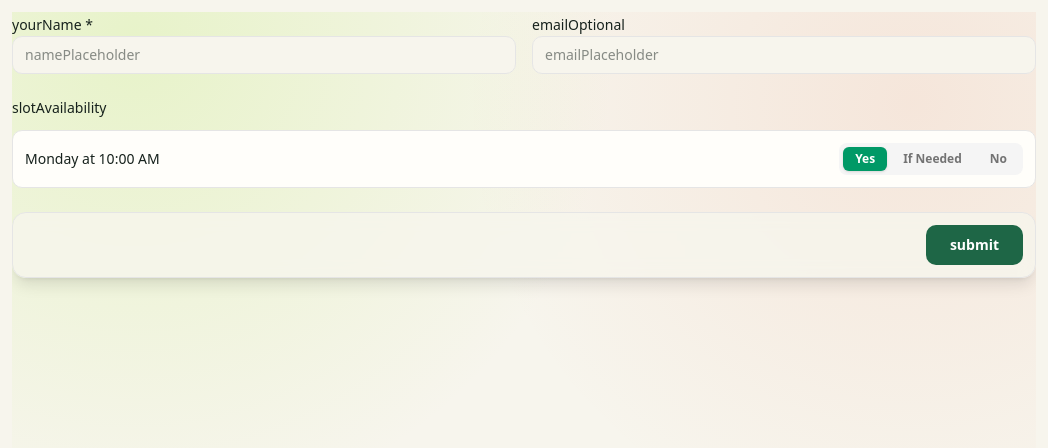
Test: PollVotingForm › announces successful vote submission
Type "Alex" into the field labelled "yourName *".
click(264, 55); type("Alex")  # box [12,36,516,74]
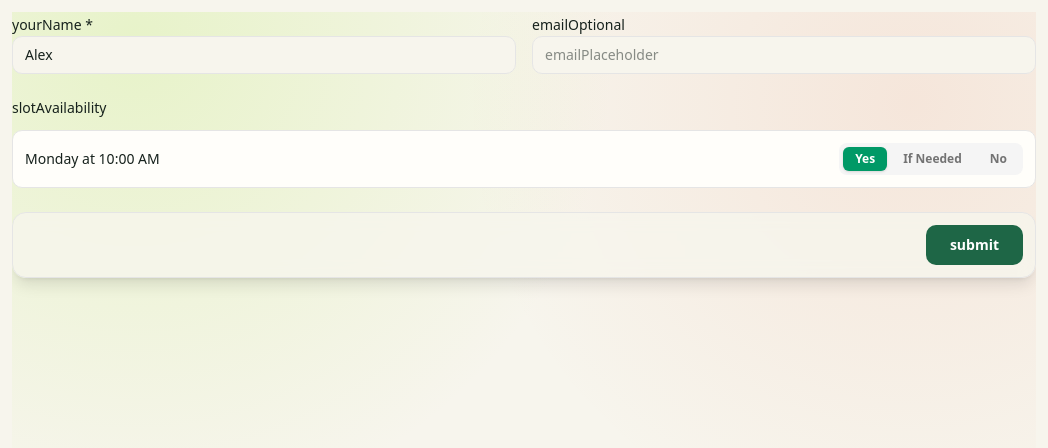
Click the button "submit".
click(974, 245)  # box [926,225,1023,265]
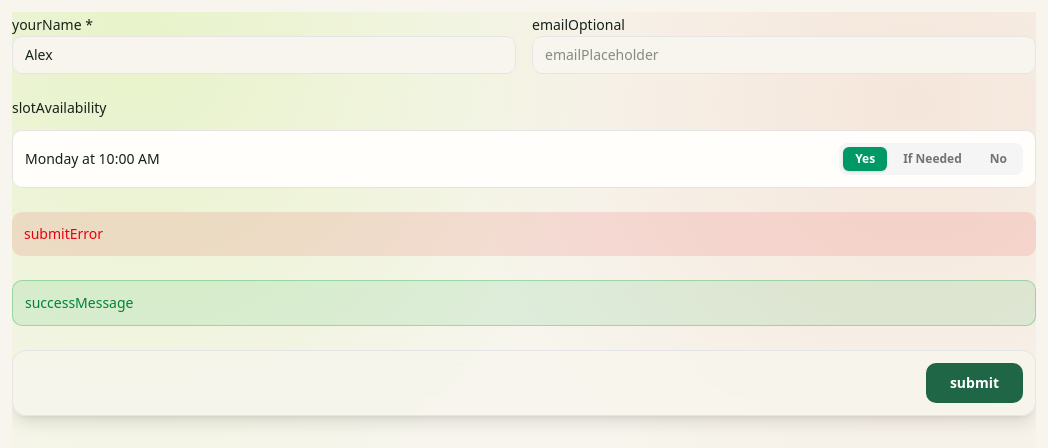
expect the message "successMessage" is shown: met, box [12,280,1036,326]
